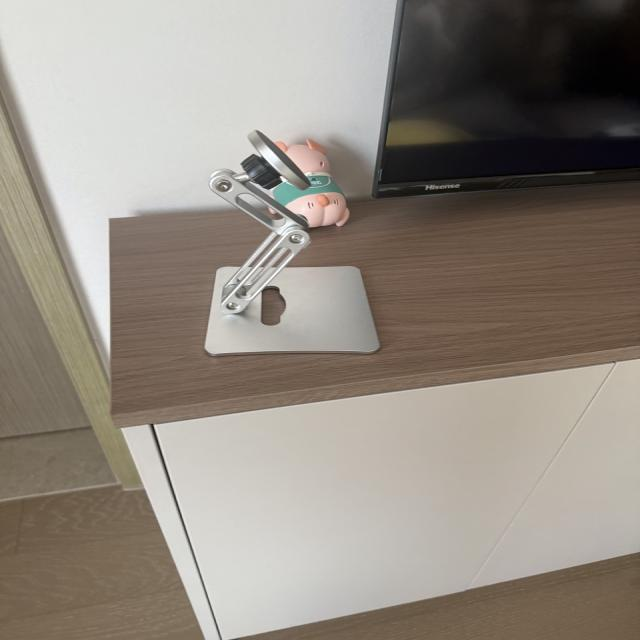phone holder: (179, 122, 397, 364)
